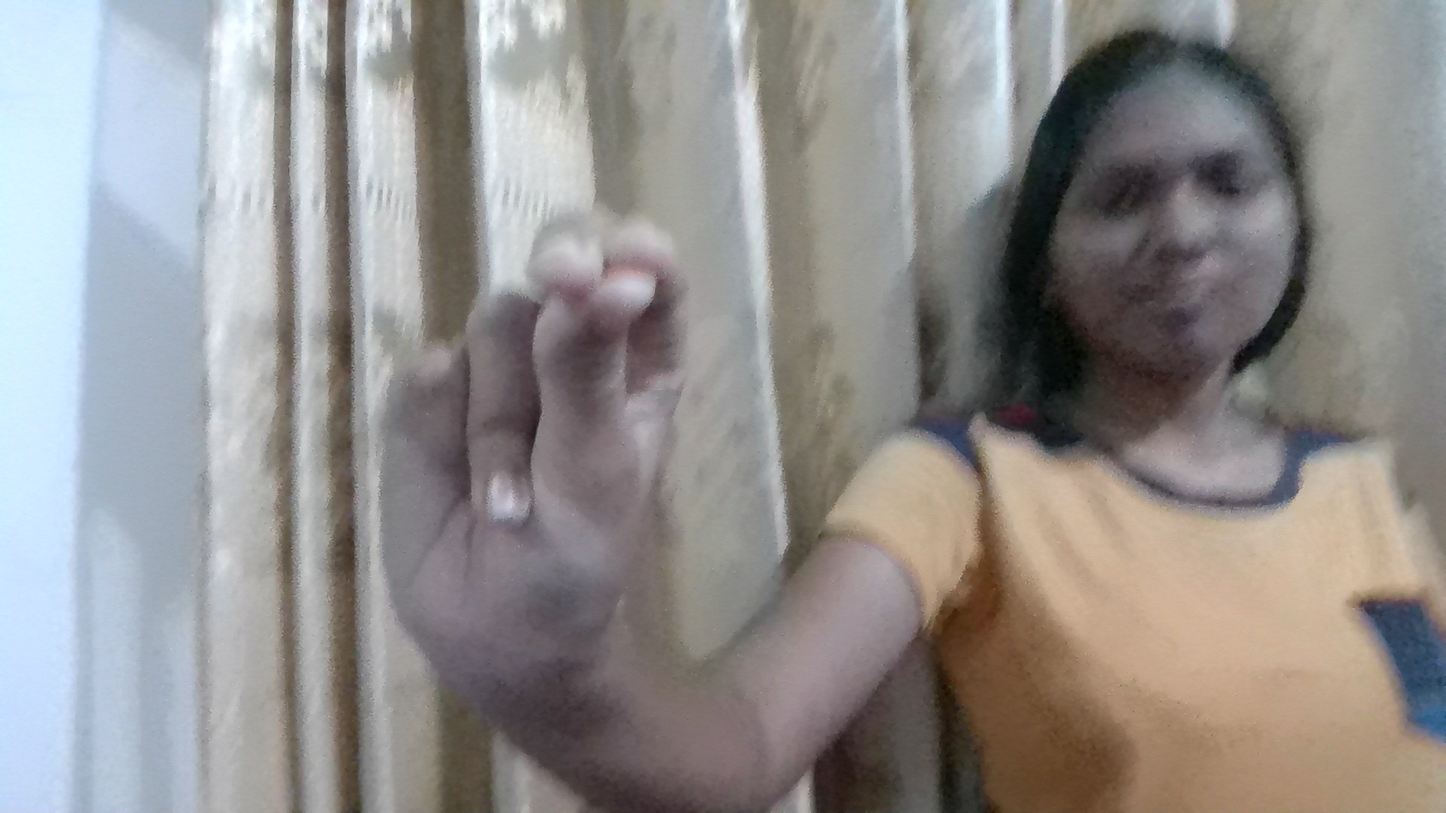No: (262, 181, 832, 704)
